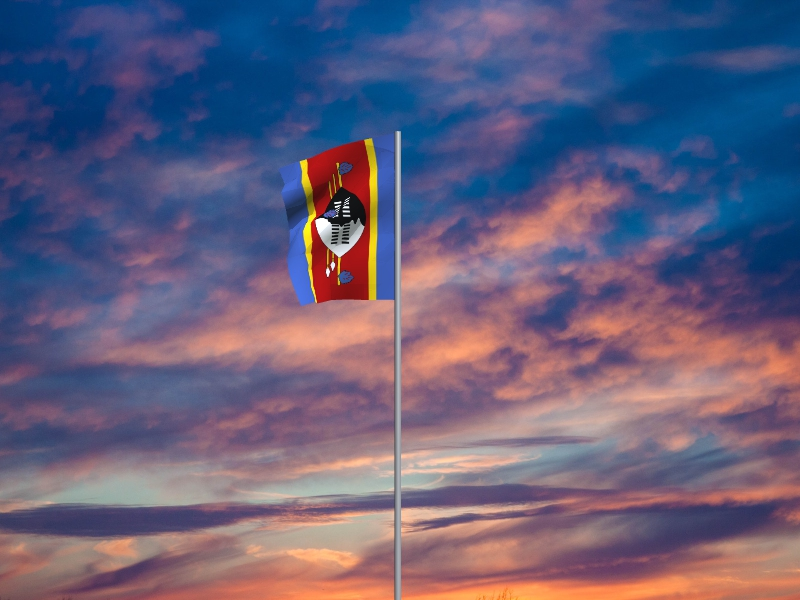sz: (279, 133, 395, 307)
